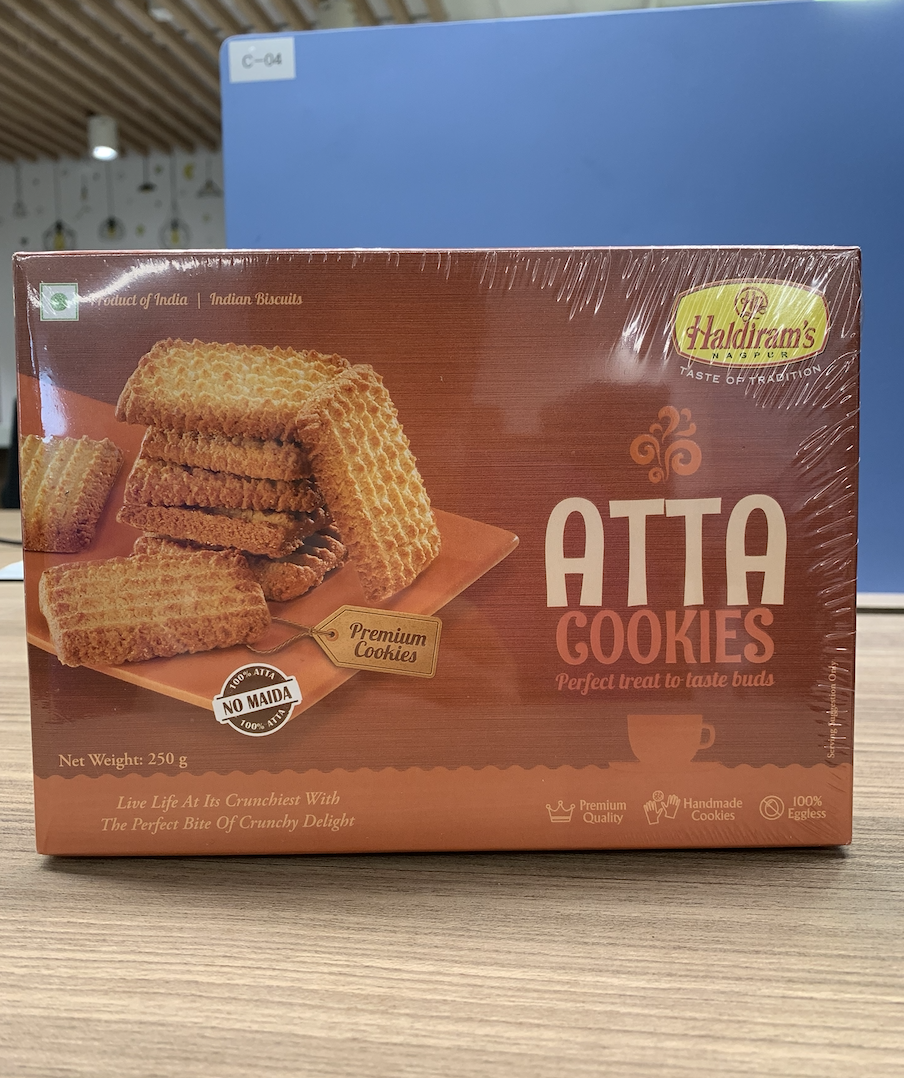cookies_200g-299g: (35, 255, 847, 838)
